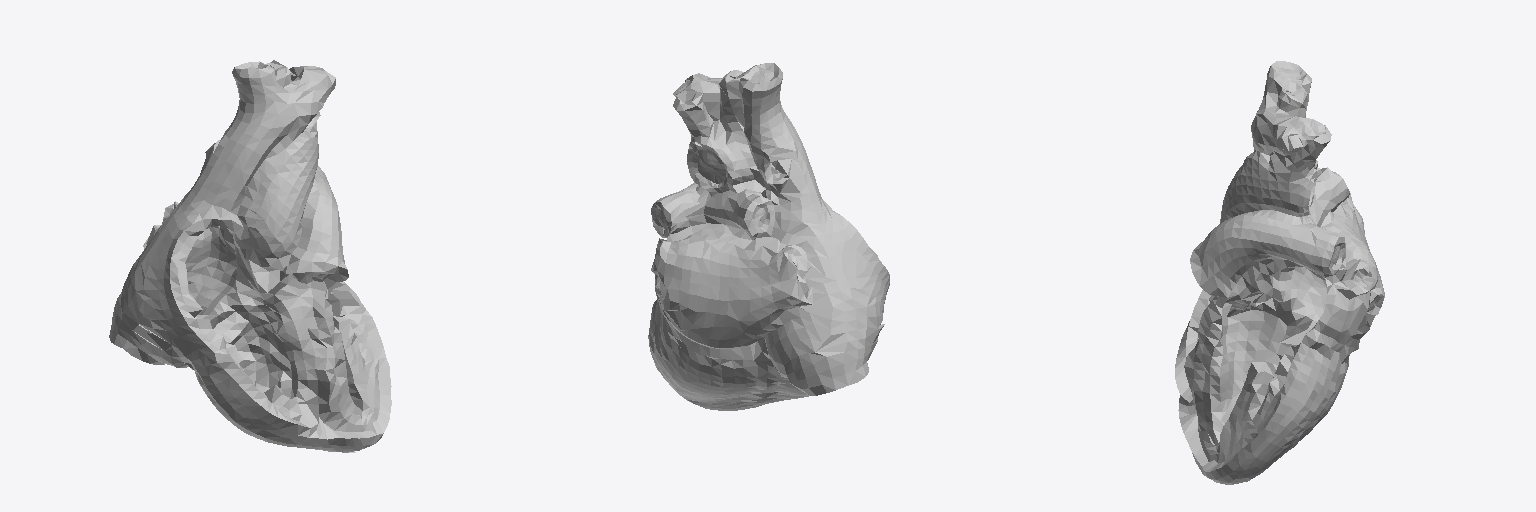
File: Heart_Cross_Section.obj
The picture shows the model from 3 angles: view 1: azimuth 30°, elevation 25°; view 2: azimuth 150°, elevation 25°; view 3: azimuth 270°, elevation 25°; orthographic projection.
Visible parts, largest first — view 1: Heart; view 2: Heart; view 3: Heart.
Boxes of the visible parts, box(x1,y1,x2,y2) form: Heart: box(109, 60, 391, 452); Heart: box(648, 63, 889, 410); Heart: box(1175, 61, 1384, 484).
Size of the model in its own units: 3.56 by 5.39 by 2.71.